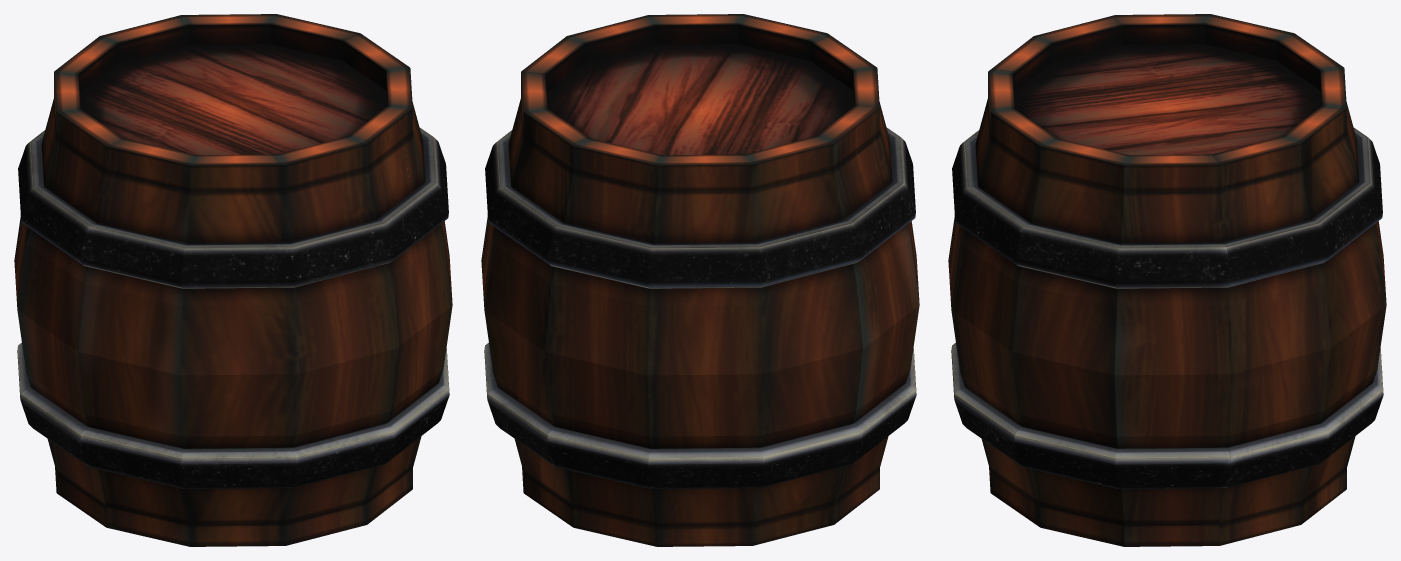
File: Barrel.fbx
The picture shows the model from 3 angles, left to right: view 1: azimuth 30°, elevation 25°; view 2: azimuth 150°, elevation 25°; view 3: azimuth 270°, elevation 25°; orthographic projection.
Parts seen in each view (by area): view 1: Barril.001; view 2: Barril.001; view 3: Barril.001.
Boxes of the visible parts, x1,y1,x2,y2 form: Barril.001: (14, 14, 452, 546); Barril.001: (481, 14, 919, 546); Barril.001: (948, 14, 1386, 546).
Size of the model in its own units: 76.69 by 73.64 by 76.69.
Materials: 1 (1 with a texture image).
